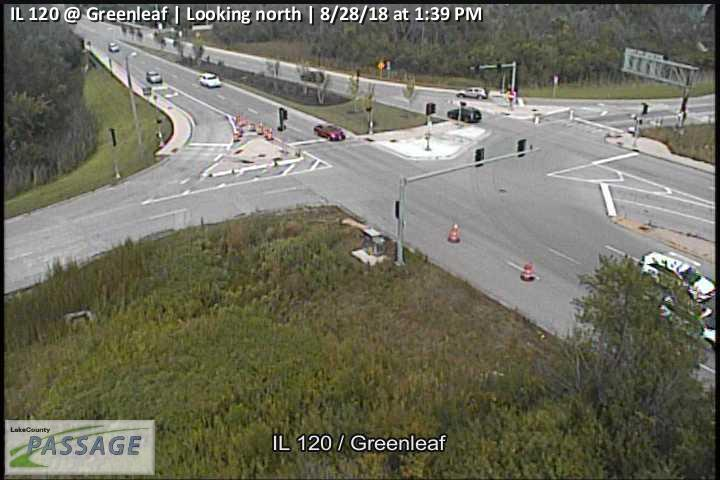SUV: (639, 247, 718, 301), (656, 294, 720, 349), (446, 105, 482, 124), (455, 85, 489, 100), (198, 71, 221, 87), (300, 69, 325, 83), (146, 70, 163, 84), (108, 42, 120, 51)
Sedan: (314, 121, 346, 142)
